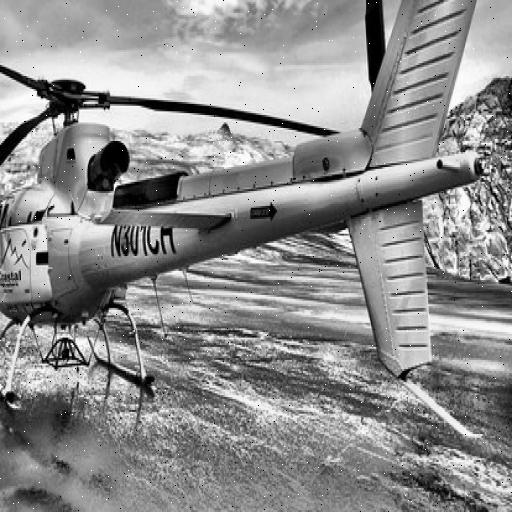helicopter: (1, 1, 503, 443)
